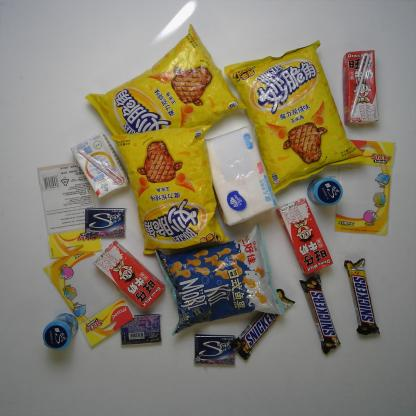Chocolate: (228, 288, 297, 362), (298, 274, 342, 356), (341, 258, 383, 339)
Gum: (117, 313, 163, 347), (81, 206, 127, 240), (193, 333, 238, 367), (41, 313, 80, 350), (308, 176, 346, 207)
Milk: (91, 239, 167, 313), (274, 195, 334, 276), (69, 128, 132, 201), (339, 48, 383, 127)
Puffed Food: (221, 39, 367, 197), (80, 21, 252, 153), (104, 122, 231, 258), (150, 222, 289, 338)
Stationery: (42, 242, 136, 349), (328, 135, 398, 240), (36, 158, 105, 260)
Tissue: (200, 123, 281, 229)
